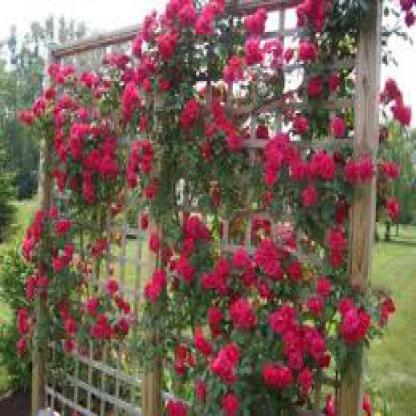Rose-Mawar: (146, 214, 359, 400), (16, 59, 290, 174), (19, 202, 133, 360), (255, 110, 351, 189)
